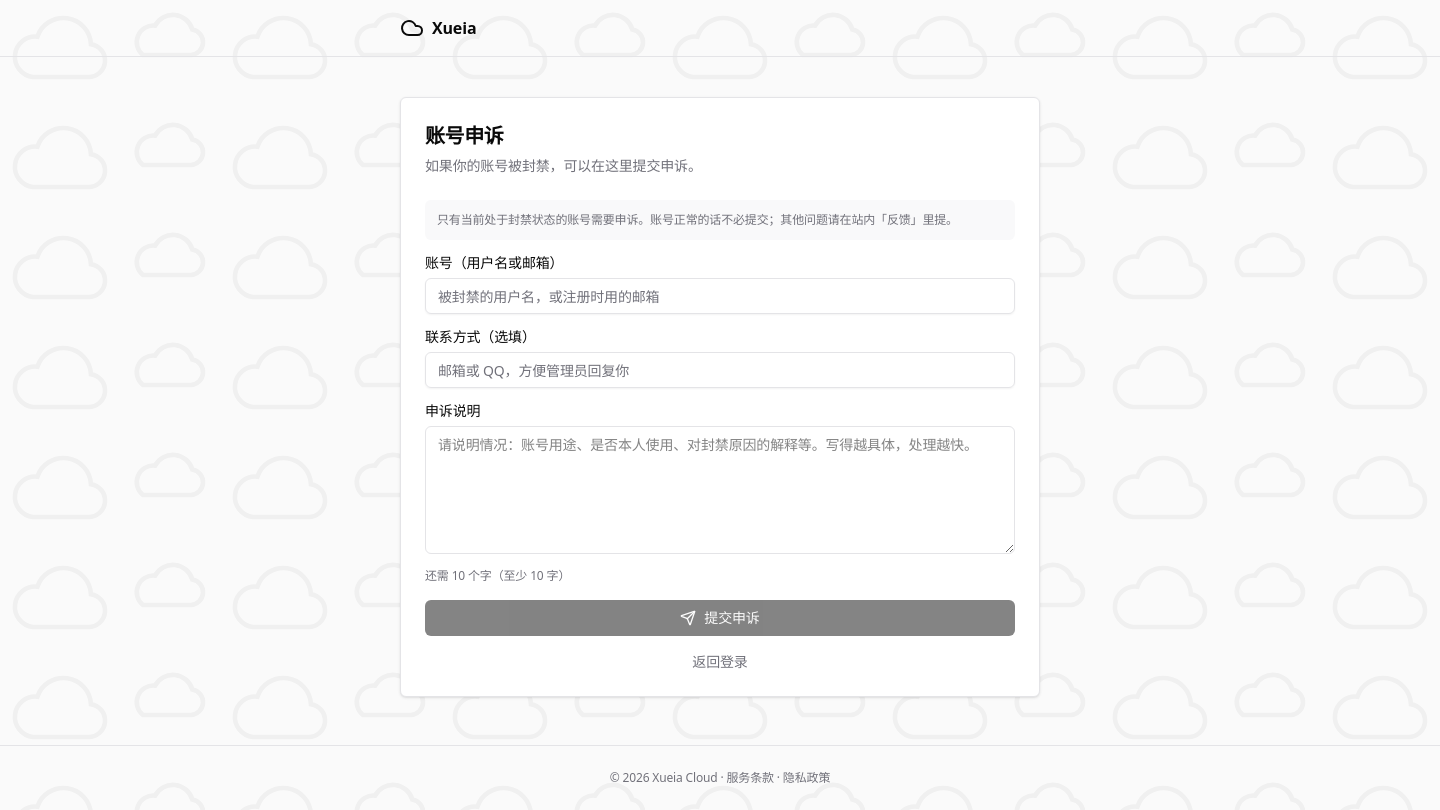
Test: AppealPage（公开页） › counts remaining characters and enables submit at 10 chars
In the field labelled "账号（用户名或邮箱）": (720, 296) [425, 278, 1015, 314], type "jooyang"
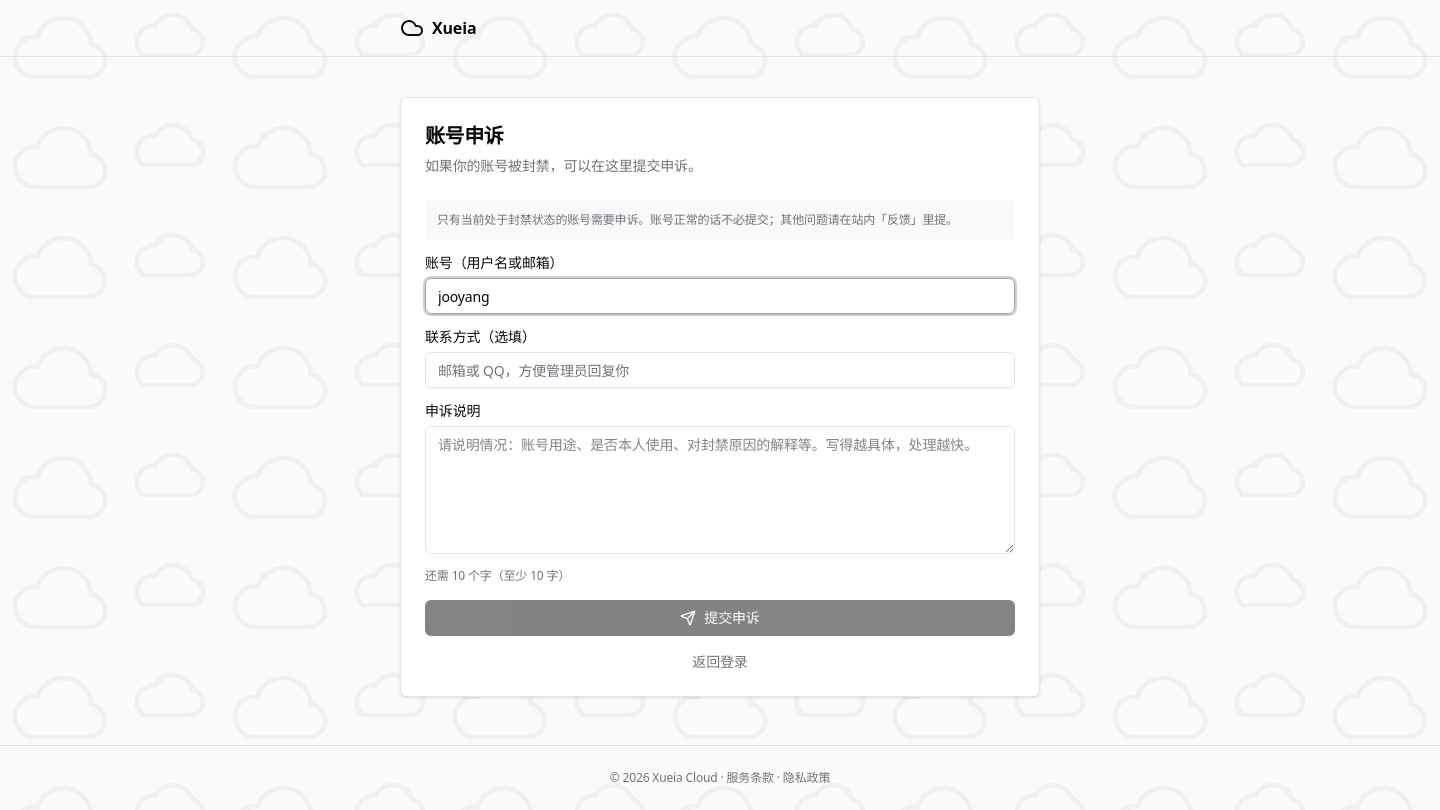
In the text box labelled "申诉说明": (720, 490) [425, 426, 1015, 554], type "12345"
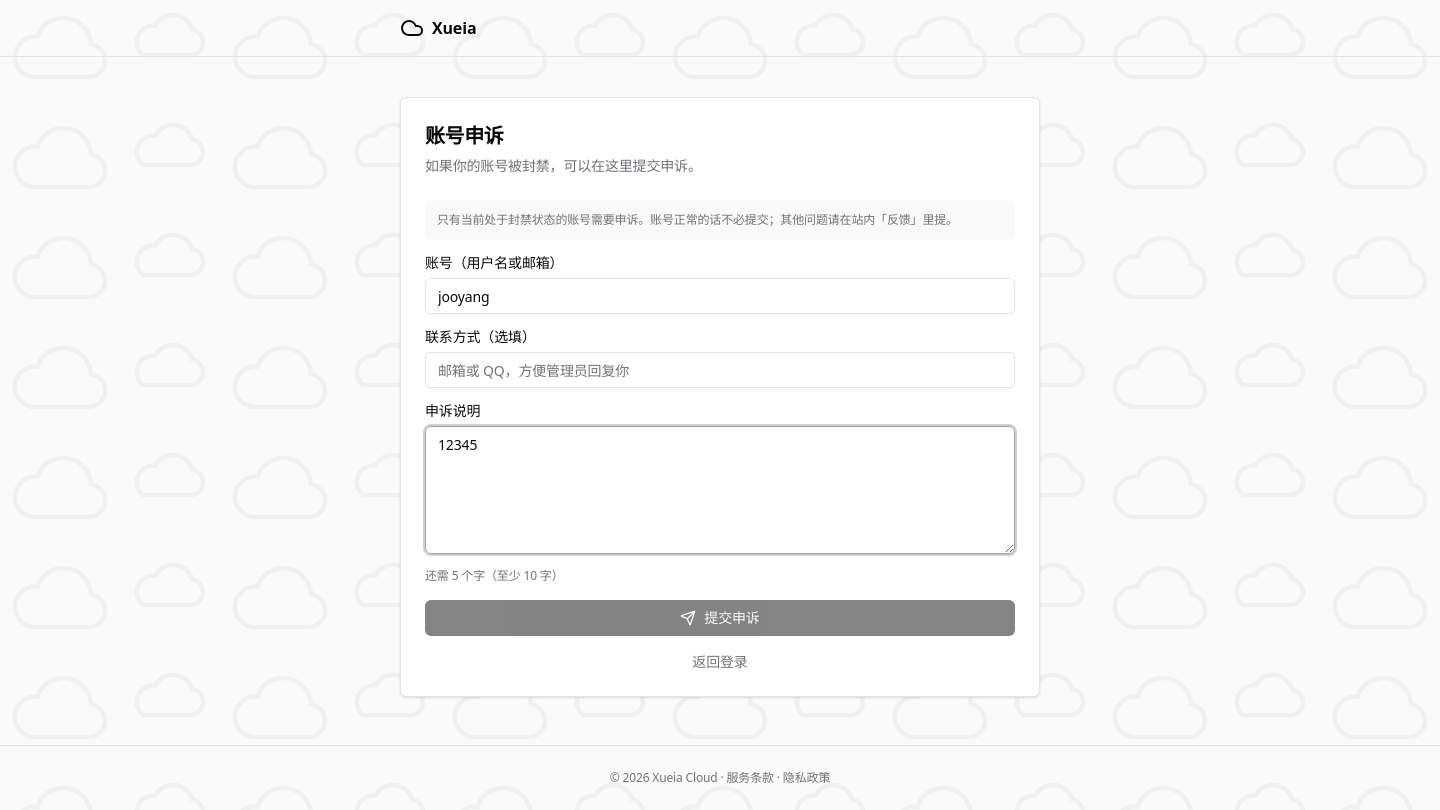
Expected: the button "提交申诉" is disabled, [425, 600, 1015, 636]
Result: the text "还需 5 个字（至少 10 字）" is shown at [425, 567, 564, 584]
In the text box labelled "申诉说明": (720, 490) [425, 426, 1015, 554], type "67890"
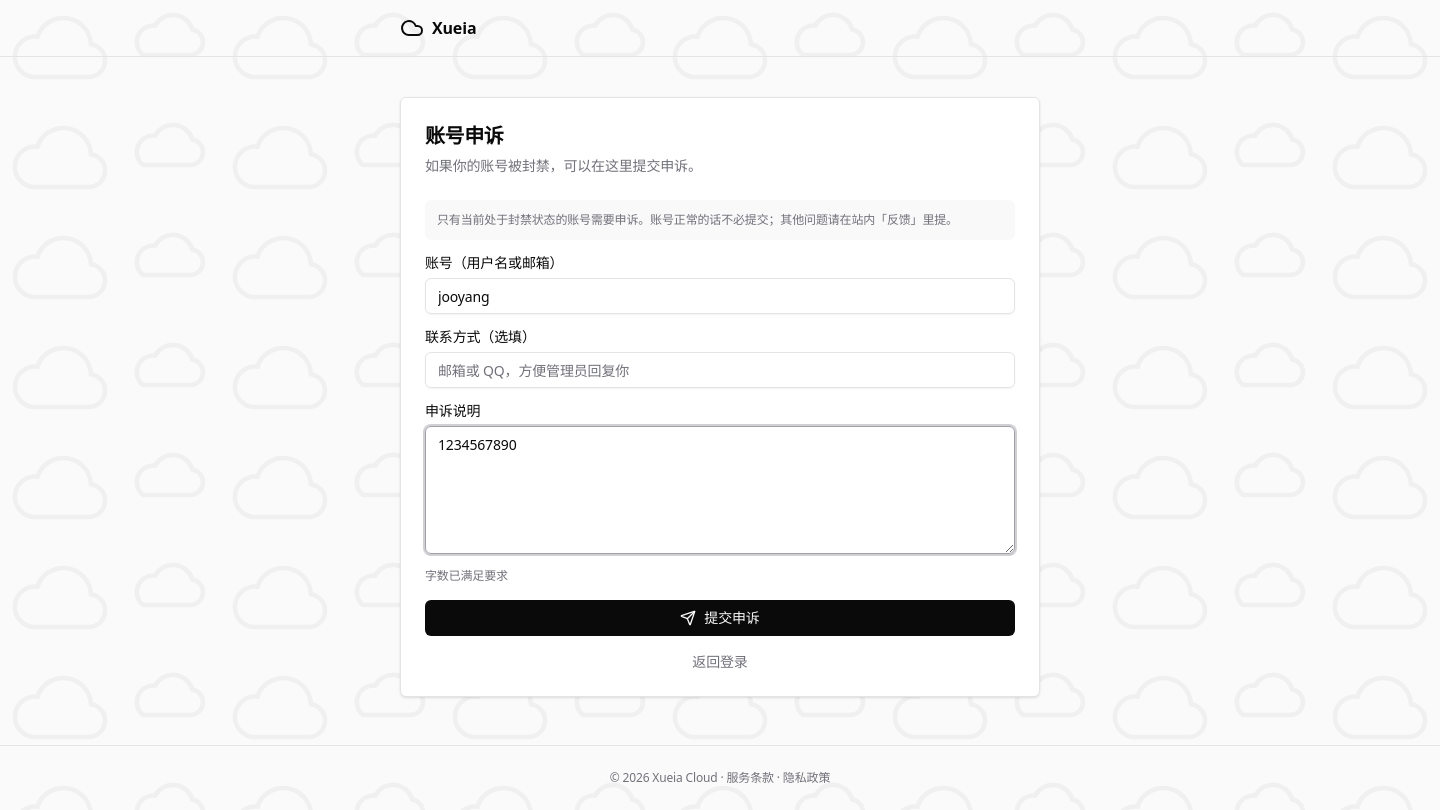
Result: the button "提交申诉" is enabled at [425, 600, 1015, 636]
